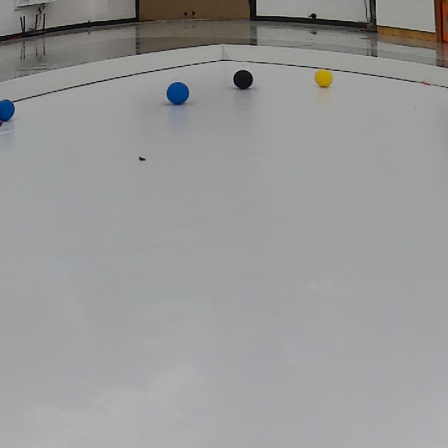black: (231, 68, 256, 87)
blue: (163, 82, 191, 105), (0, 96, 17, 121)
yellow: (315, 70, 333, 88)
